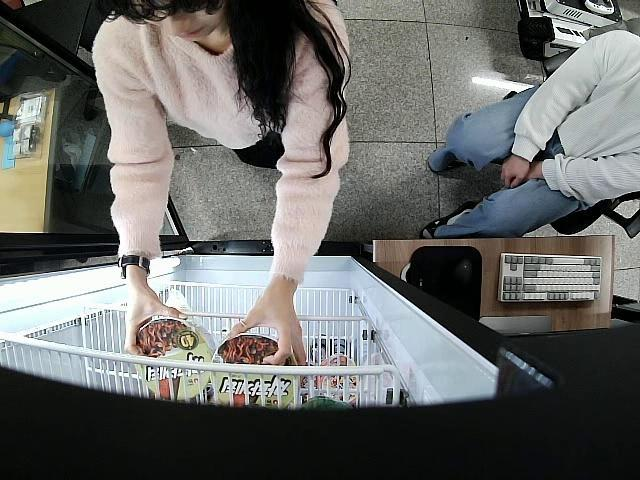03_chapagetti_L: (209, 335, 294, 410), (134, 321, 214, 398)
